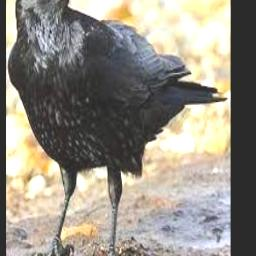Crow: (8, 0, 229, 256)
